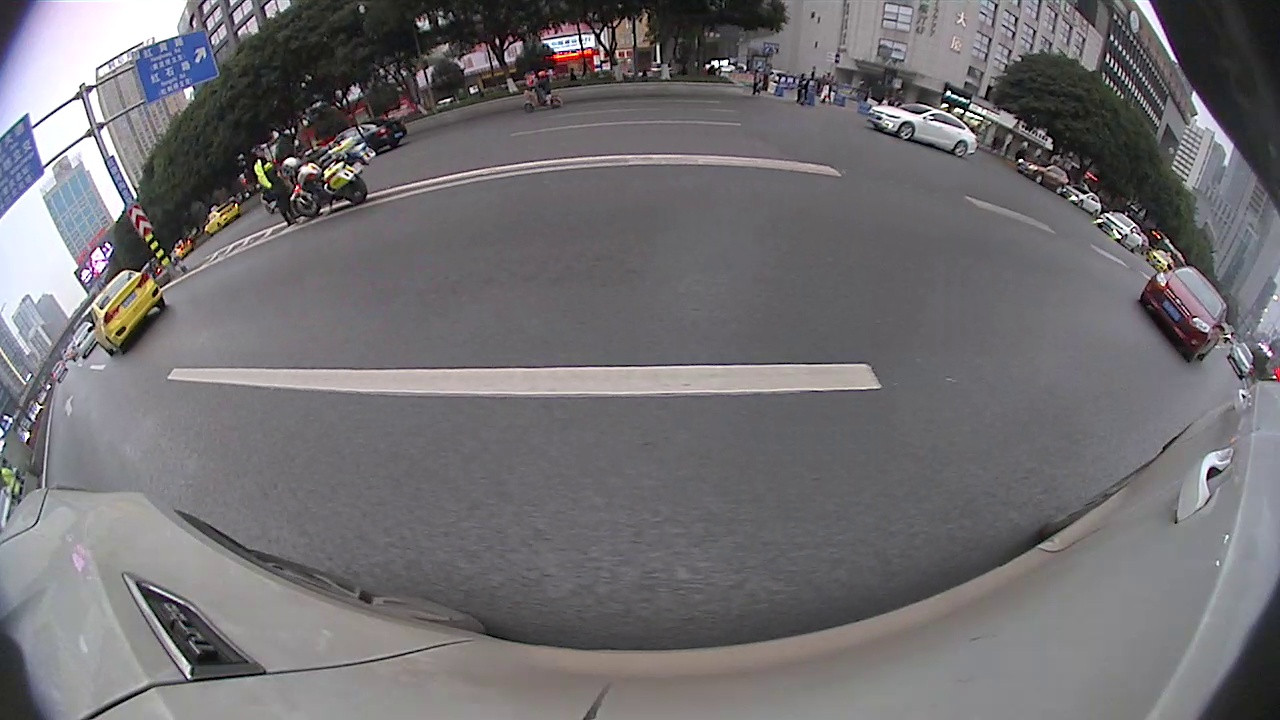car: (796, 139, 1107, 298), (0, 280, 222, 491), (1058, 193, 1211, 351), (454, 150, 572, 222), (1190, 311, 1279, 401), (738, 147, 805, 198), (617, 155, 673, 197)
front: (80, 348, 186, 465), (1189, 337, 1226, 377), (793, 185, 815, 225)
rear: (908, 218, 956, 286), (1106, 287, 1150, 335), (539, 184, 551, 213), (736, 174, 746, 197)
rider: (693, 135, 733, 208)
